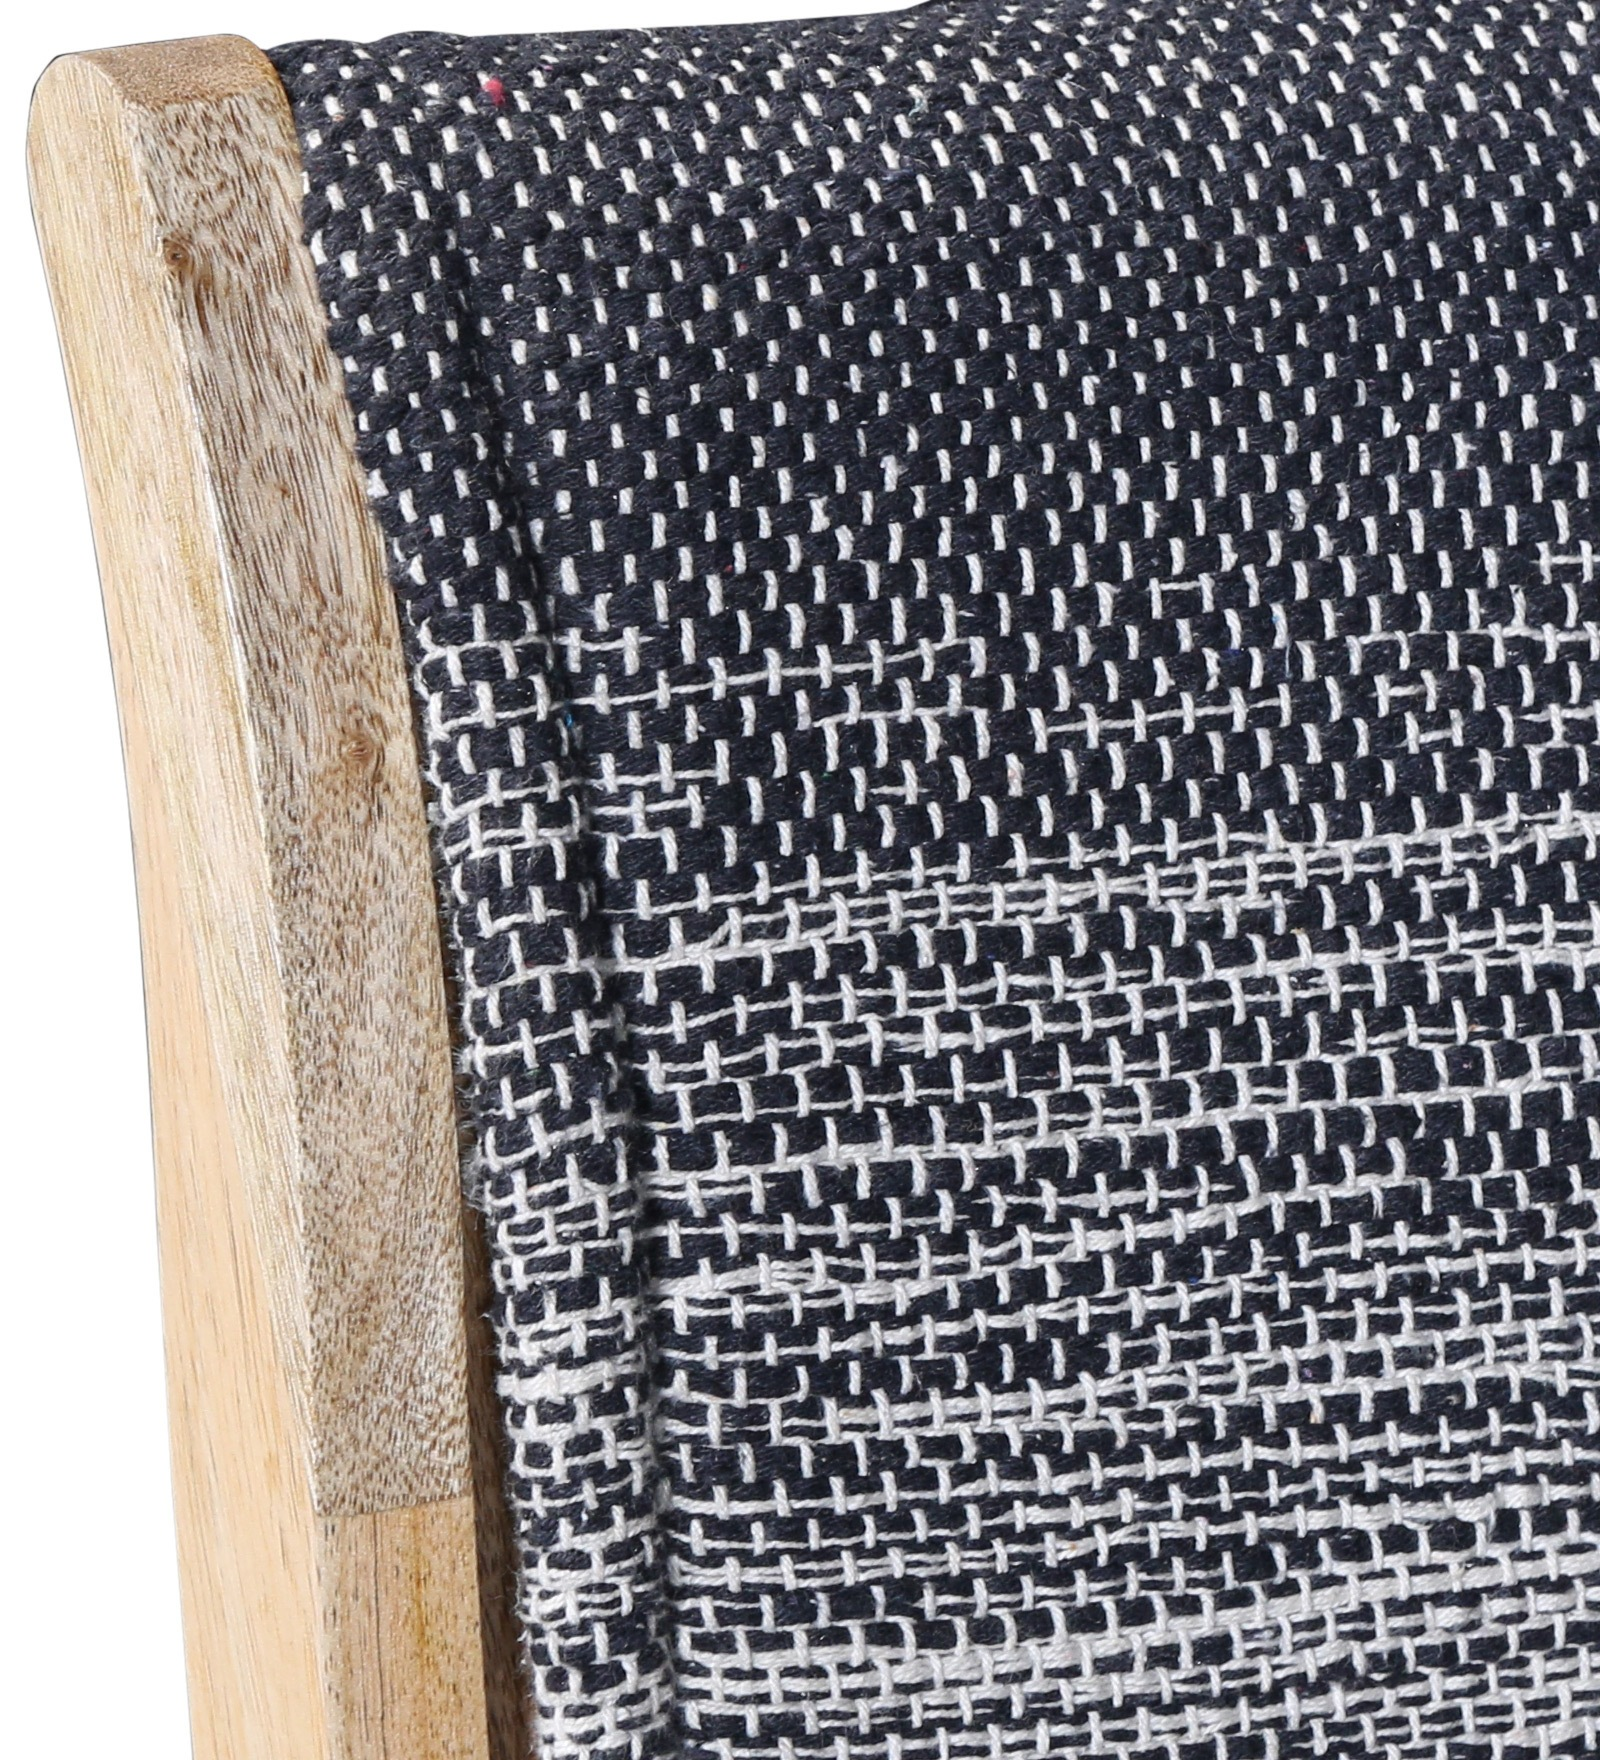Horan Folding Chair by Bohemiana: (34, 8, 1600, 1752)
